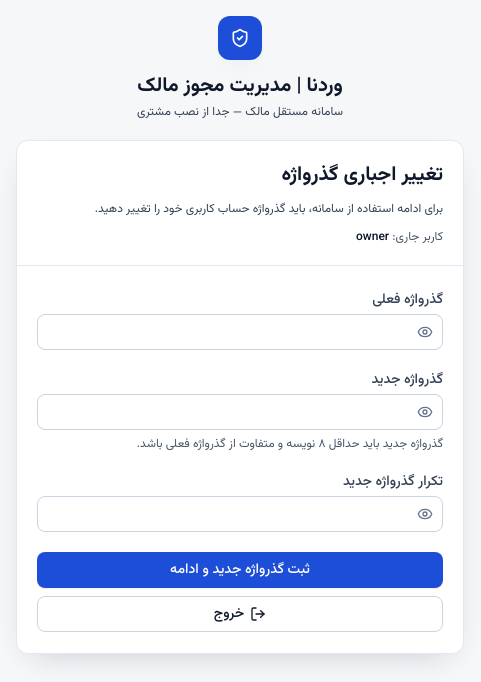
Scenario: mandatory first-login password change (mocked API boundary, CI) › signs the operator in again with the expiry notice when the session really ended
Type "mistyped-current" into the password field labelled "گذرواژه فعلی".
click(240, 332); type("mistyped-current")  # box [37,314,443,350]
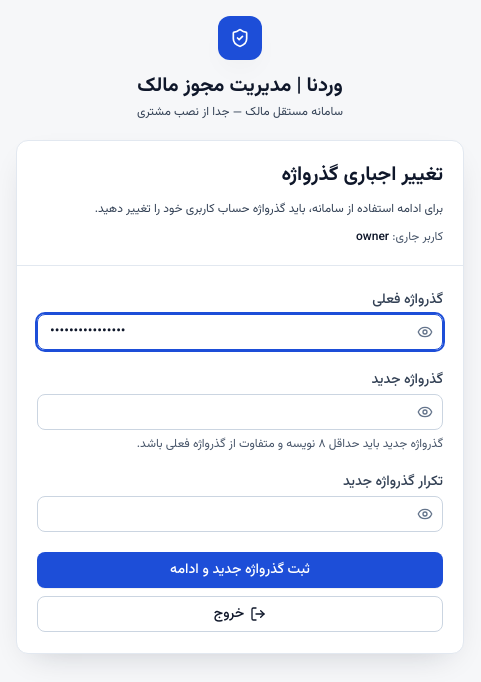
Type "Fresh_secret_52" into the password field labelled "گذرواژه جدید".
click(240, 412); type("Fresh_secret_52")  # box [37,394,443,430]
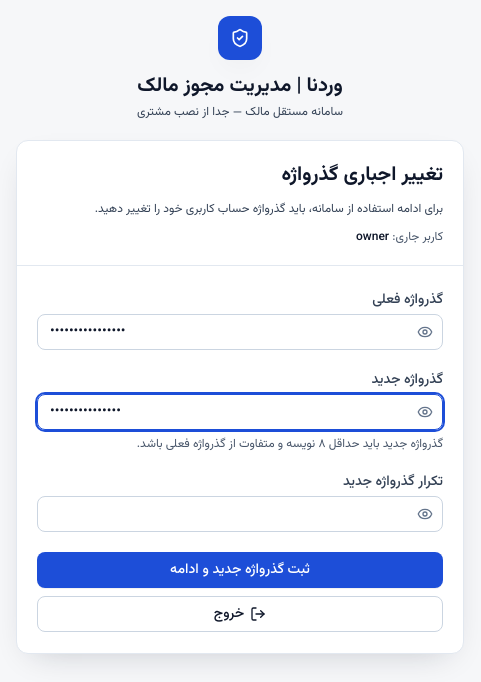
Type "Fresh_secret_52" into the password field labelled "تکرار گذرواژه جدید".
click(240, 514); type("Fresh_secret_52")  # box [37,496,443,532]
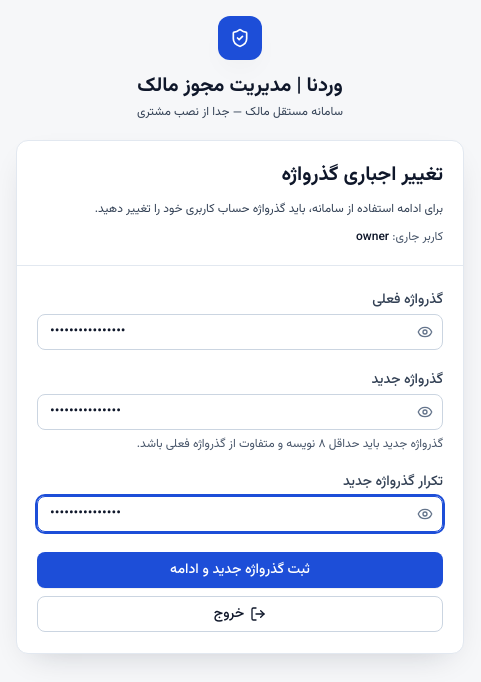
Click the button "ثبت گذرواژه جدید و ادامه".
click(240, 570)  # box [37,552,443,588]
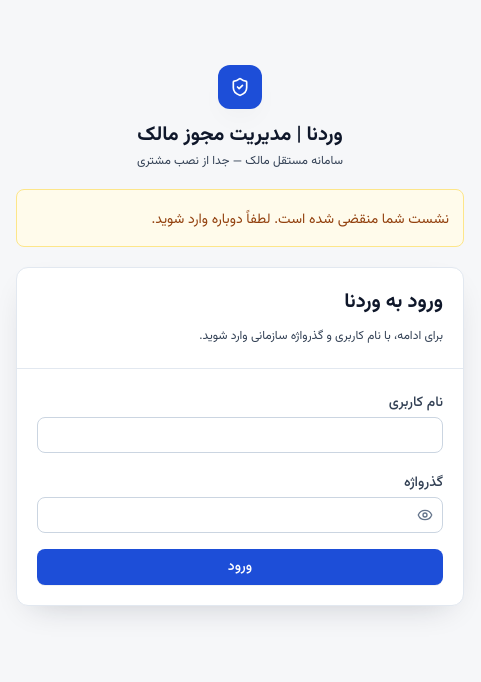
Check: the text "نشست شما منقضی شده است. لطفاً دوباره وارد شوید." is shown, box [151,208,449,230]
Check: the field labelled "نام کاربری" is shown, box [37,416,443,452]
Check: the text "برای ادامه استفاده از سامانه، باید گذرواژه حساب کاربری خود را تغییر دهید." is gone
